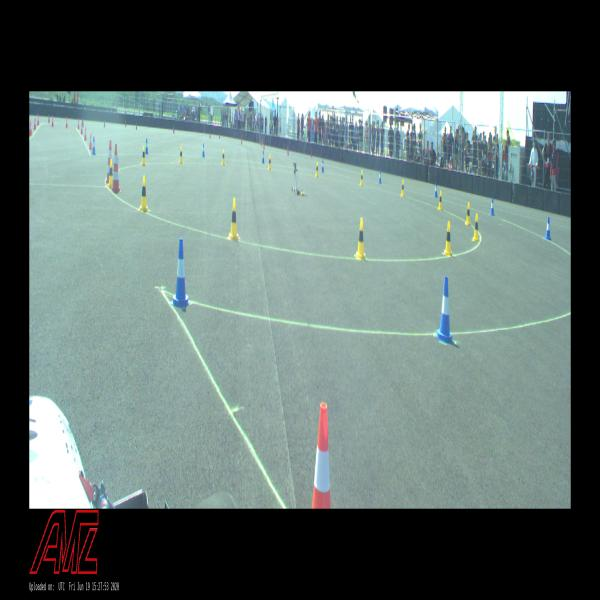blue_cone: (170, 238, 190, 308), (436, 276, 455, 344), (545, 217, 551, 240), (92, 137, 96, 155), (490, 198, 494, 215), (145, 138, 149, 154), (434, 182, 438, 197), (378, 170, 382, 183), (202, 143, 205, 156), (321, 159, 324, 172), (262, 151, 264, 163)
large_orange_cone: (112, 144, 121, 193), (106, 140, 112, 184)
orange_cone: (312, 402, 331, 508), (89, 133, 92, 149), (84, 127, 87, 140), (30, 121, 32, 136), (34, 118, 36, 129), (81, 123, 83, 134), (66, 117, 68, 128), (37, 114, 39, 125), (52, 115, 53, 126), (78, 118, 79, 128)
yellow_cone: (229, 198, 239, 240), (356, 218, 366, 259), (140, 176, 148, 212), (444, 221, 452, 256), (473, 214, 479, 241), (108, 159, 113, 187), (466, 202, 470, 225), (142, 146, 146, 166), (438, 190, 442, 210), (179, 146, 183, 163), (400, 179, 404, 196), (222, 149, 226, 165), (268, 154, 272, 170), (360, 170, 363, 186), (316, 162, 318, 176)
